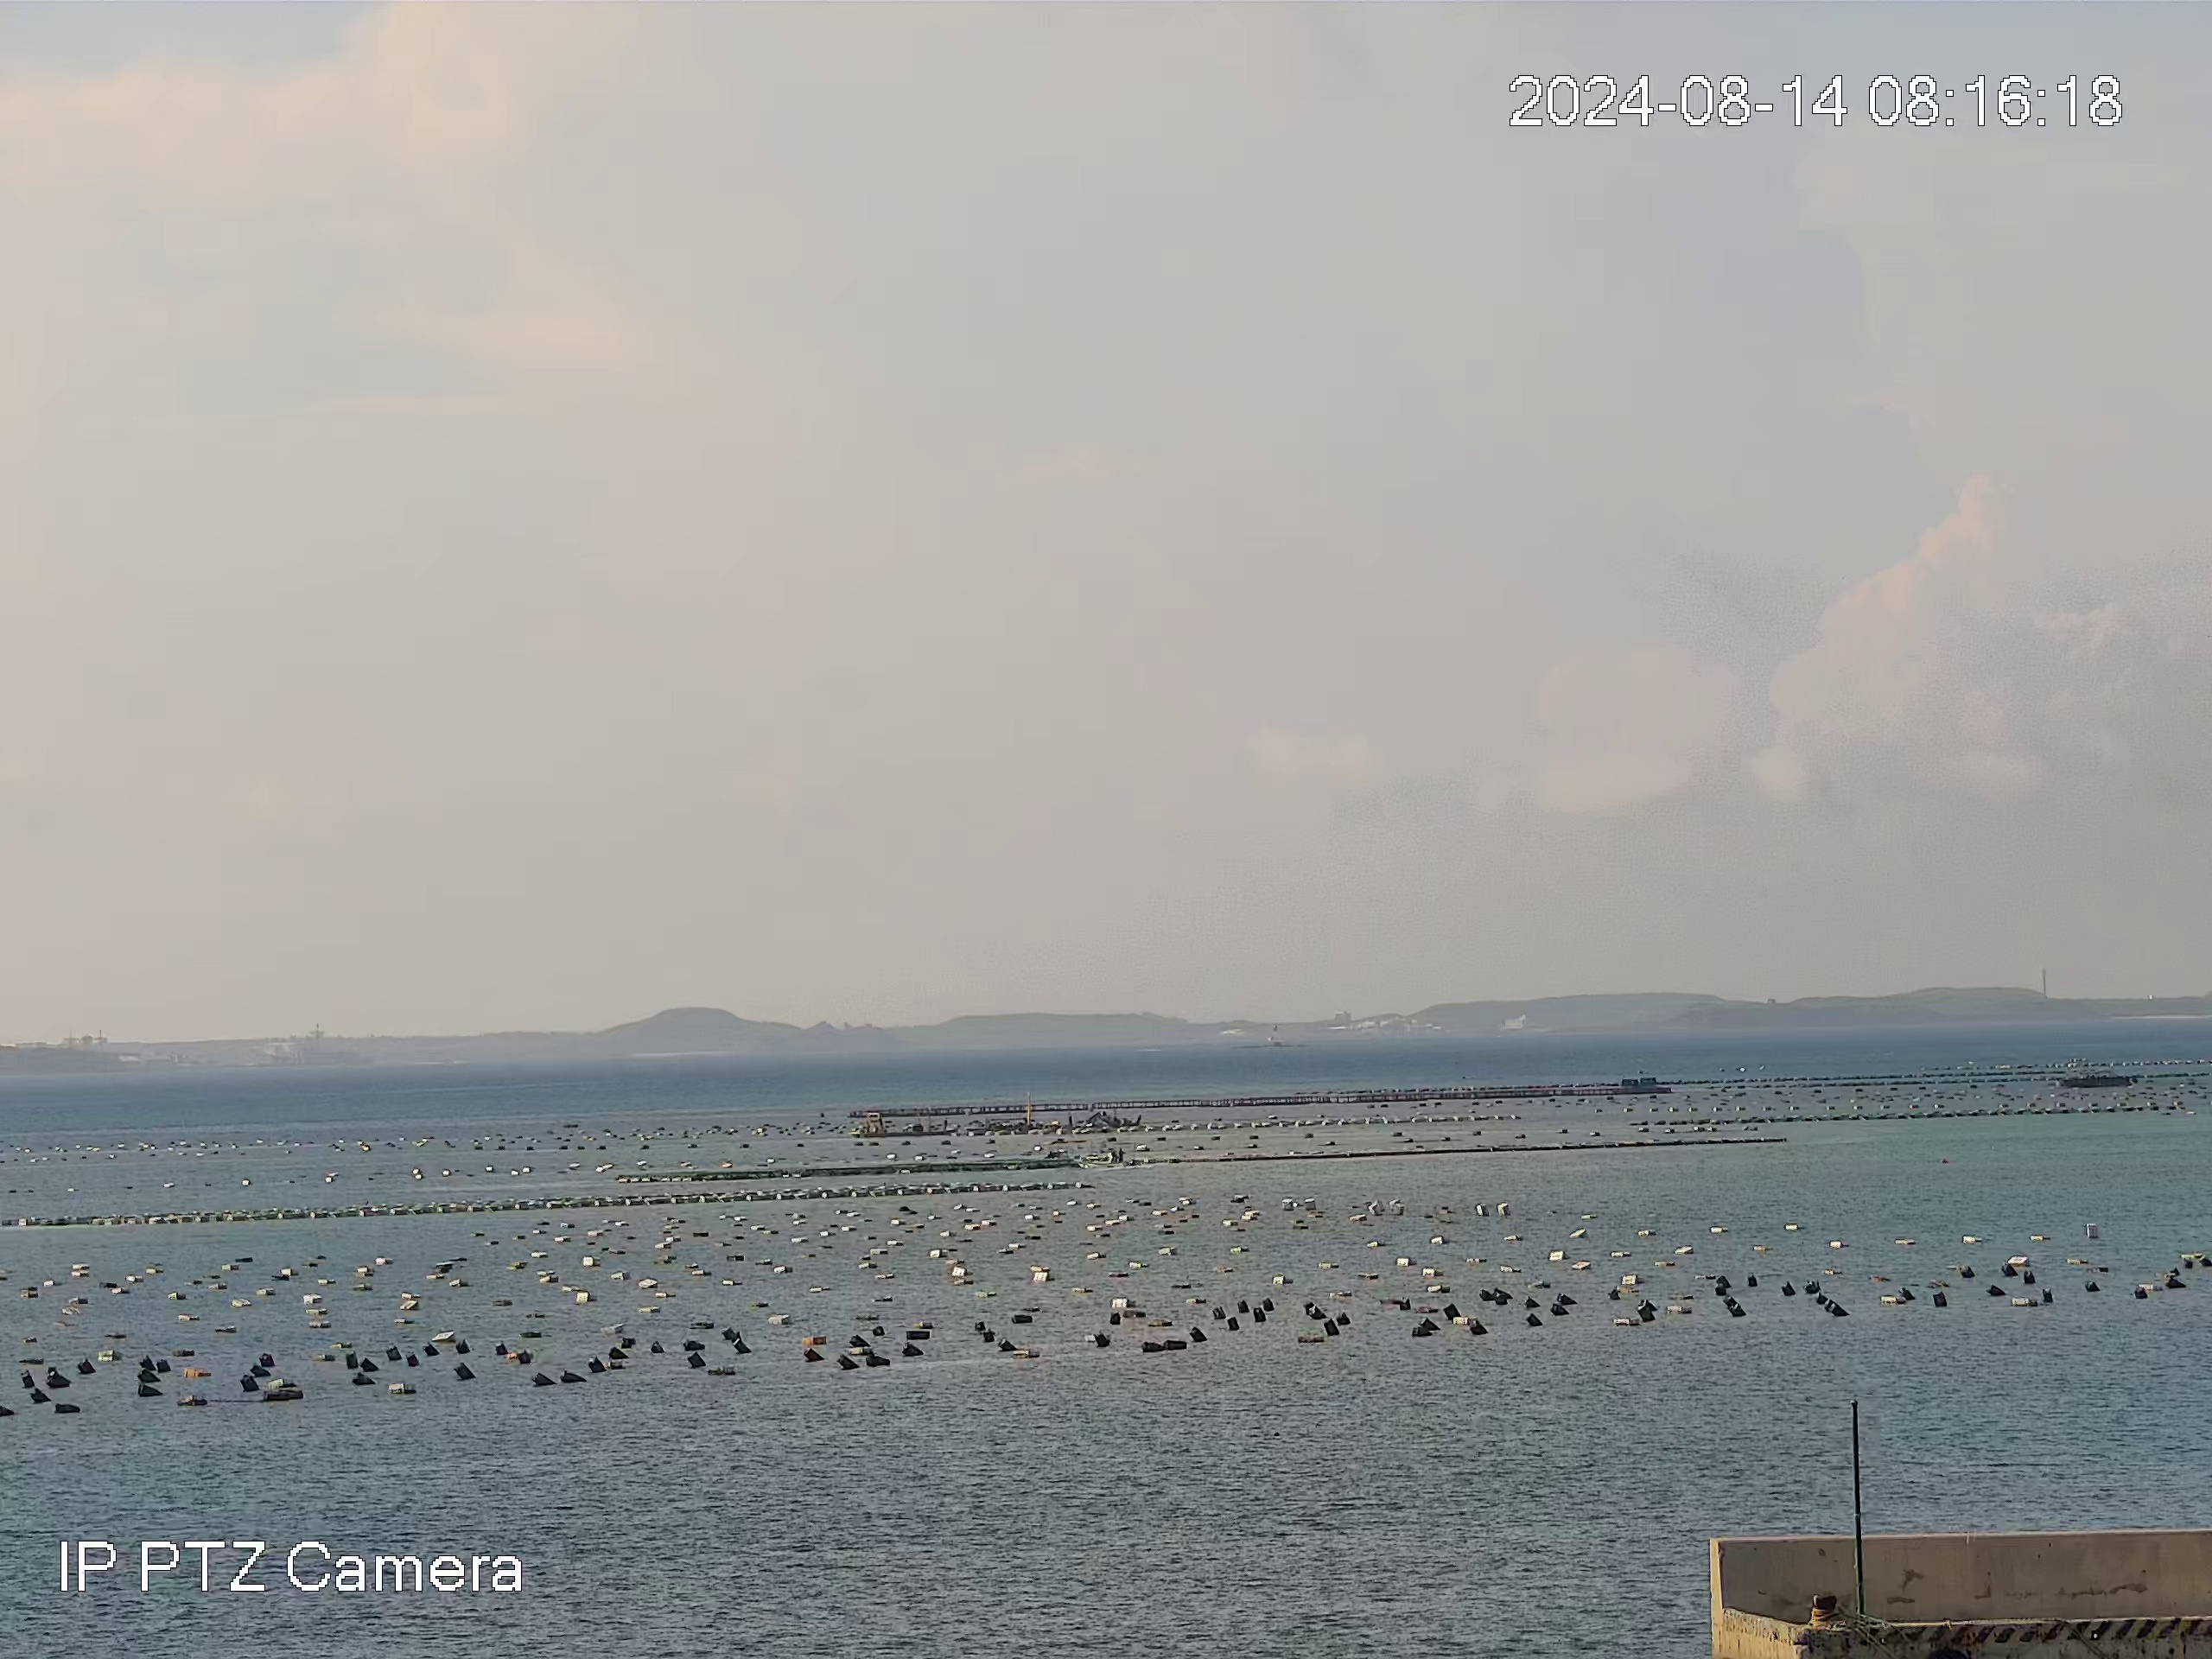boat: (2055, 1066, 2134, 1089), (1078, 1140, 1141, 1168), (848, 1112, 892, 1136)
